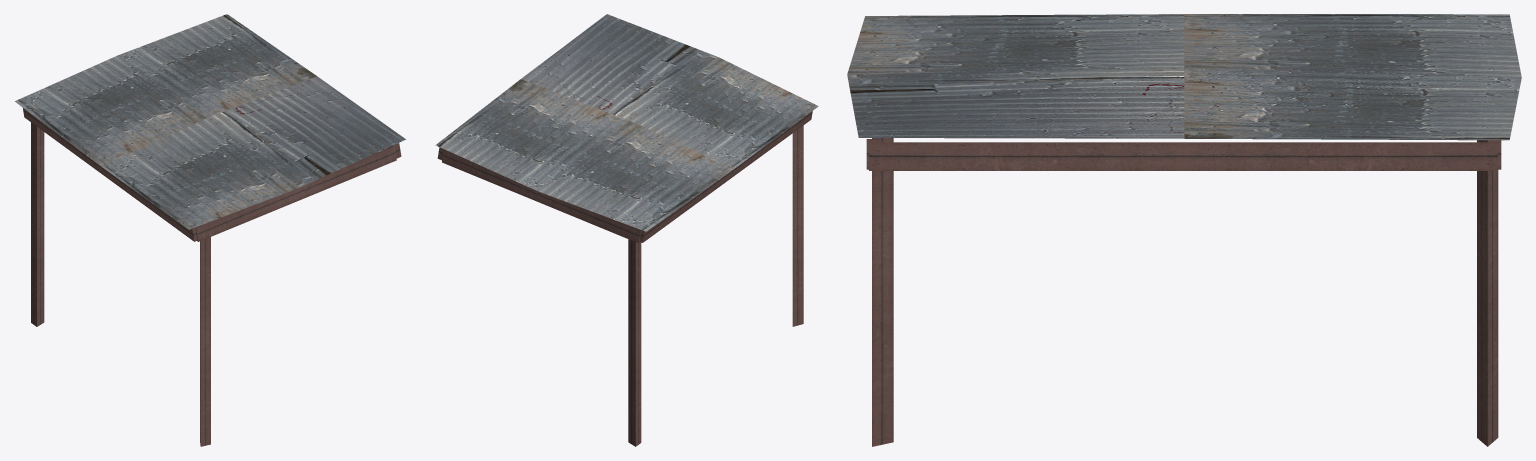
Rendered from Prop_Pz01_lod2.glb.
3 renders of one model, left to right at view 1: azimuth 30°, elevation 25°; view 2: azimuth 150°, elevation 25°; view 3: azimuth 270°, elevation 25°, orthographic. The views are drawn at different scales.
Visible parts, largest first — view 1: xiutz_pz_01_lod2; view 2: xiutz_pz_01_lod2; view 3: xiutz_pz_01_lod2.
Part boxes in pixels (x1,y1,x2,y2): xiutz_pz_01_lod2: (15,14,405,446); xiutz_pz_01_lod2: (435,14,818,446); xiutz_pz_01_lod2: (847,14,1521,446).
Size of the model in its own units: 4.94 by 5.67 by 7.2.
Materials: 1 (1 with a texture image).
